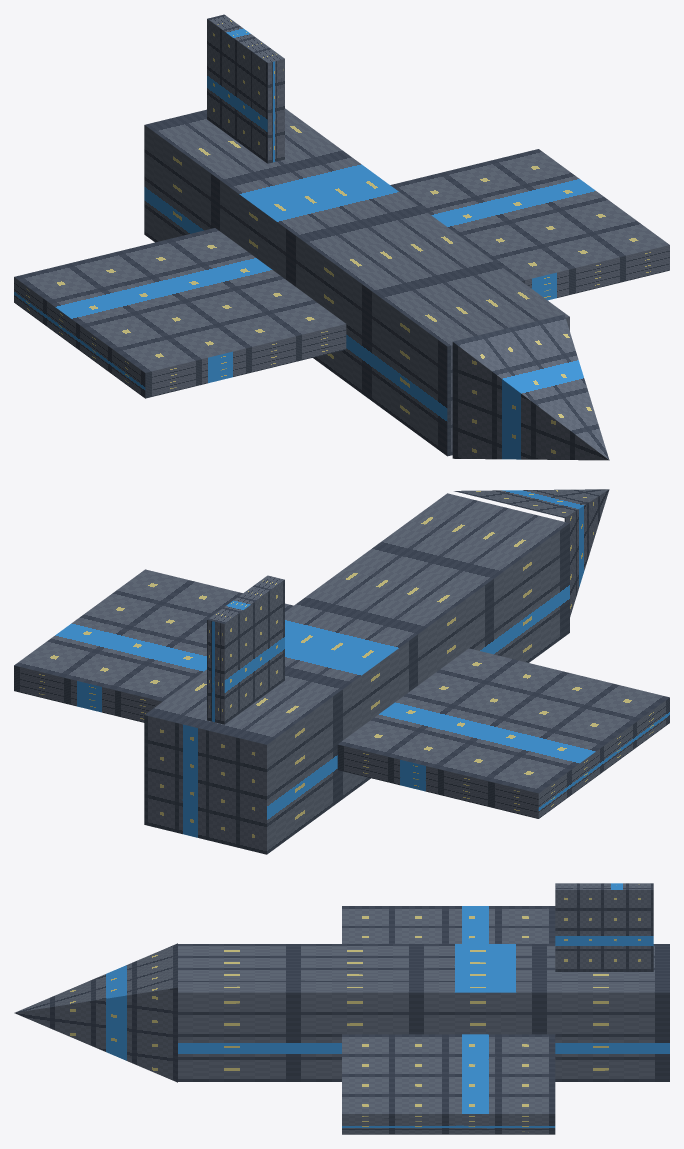
3 views of the same model, one above another, from view 1: azimuth 30°, elevation 25°; view 2: azimuth 150°, elevation 25°; view 3: azimuth 270°, elevation 25° (orthographic). The views are drawn at different scales.
Visible parts, largest first — view 1: hull; view 2: hull; view 3: hull.
Boxes of the visible parts, box(x1,y1,x2,y2) form: hull: box(14, 14, 669, 460); hull: box(14, 489, 669, 854); hull: box(14, 883, 669, 1134).
Size of the model in its own units: 3.12 by 1.22 by 4.17.
Materials: 1 (1 with a texture image).
